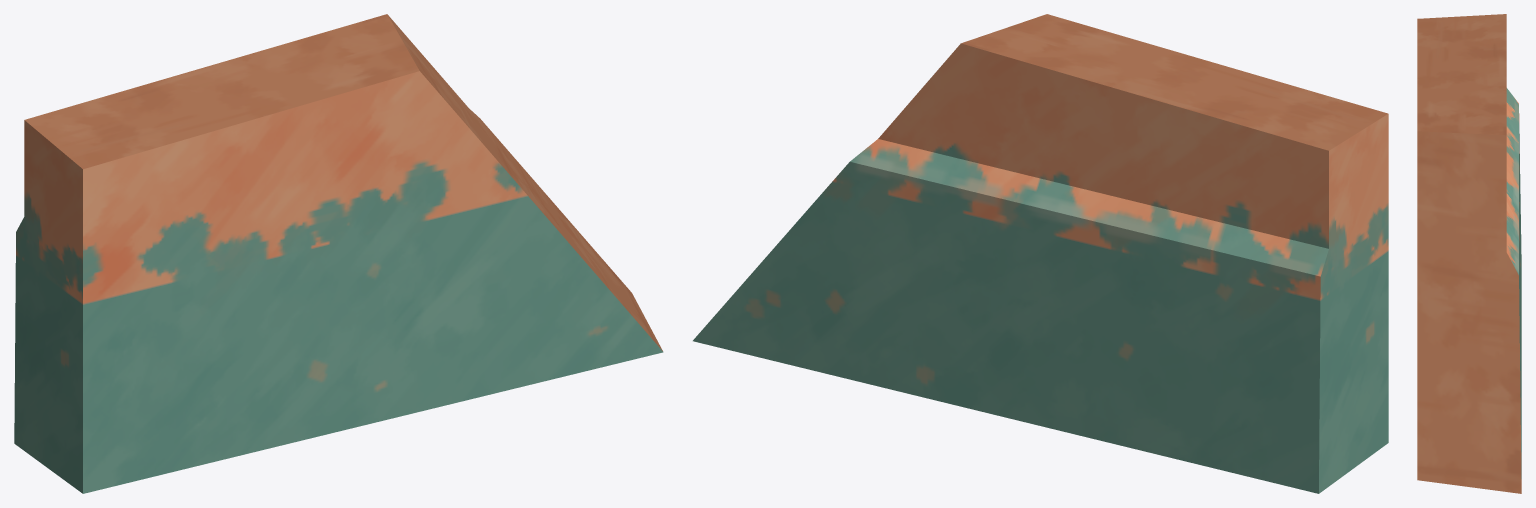
Rendered from wall_window_s05.fbx.
The picture shows the model from 3 angles, left to right: view 1: azimuth 30°, elevation 25°; view 2: azimuth 150°, elevation 25°; view 3: azimuth 270°, elevation 25°; orthographic projection. The views are drawn at different scales.
Parts seen in each view (by area): view 1: wall_window_s05; view 2: wall_window_s05; view 3: wall_window_s05.
Part boxes in pixels (x1,y1,x2,y2): wall_window_s05: (14, 14, 663, 493); wall_window_s05: (693, 14, 1388, 493); wall_window_s05: (1417, 14, 1521, 493).
Bounding box in the file's own units: 6.07 × 3.27 × 1.17.
